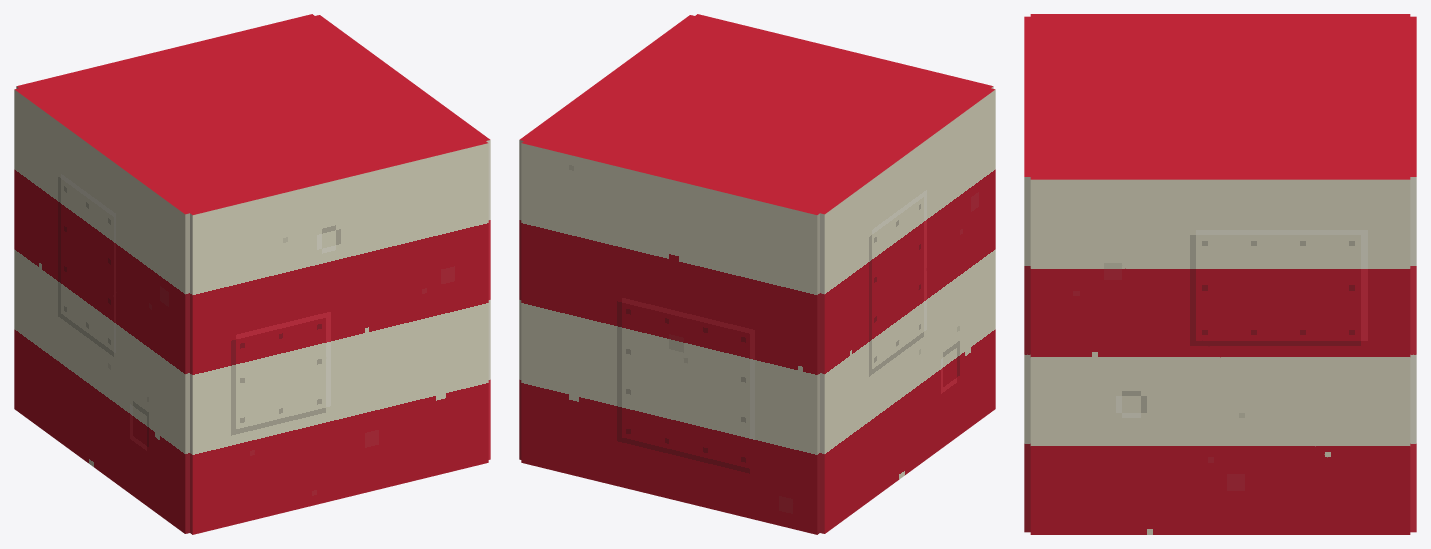
File: lighthouse_aao.fezao.glb
The picture shows the model from 3 angles, left to right: view 1: azimuth 30°, elevation 25°; view 2: azimuth 150°, elevation 25°; view 3: azimuth 270°, elevation 25°; orthographic projection. The views are drawn at different scales.
Visible parts, largest first — view 1: LIGHTHOUSE_AAO; view 2: LIGHTHOUSE_AAO; view 3: LIGHTHOUSE_AAO.
Boxes of the visible parts, x1,y1,x2,y2 form: LIGHTHOUSE_AAO: (14,14,490,534); LIGHTHOUSE_AAO: (519,14,995,534); LIGHTHOUSE_AAO: (1024,14,1416,534).
Bounding box in the file's own units: 4 × 4 × 4.
Materials: 1 (1 with a texture image).
